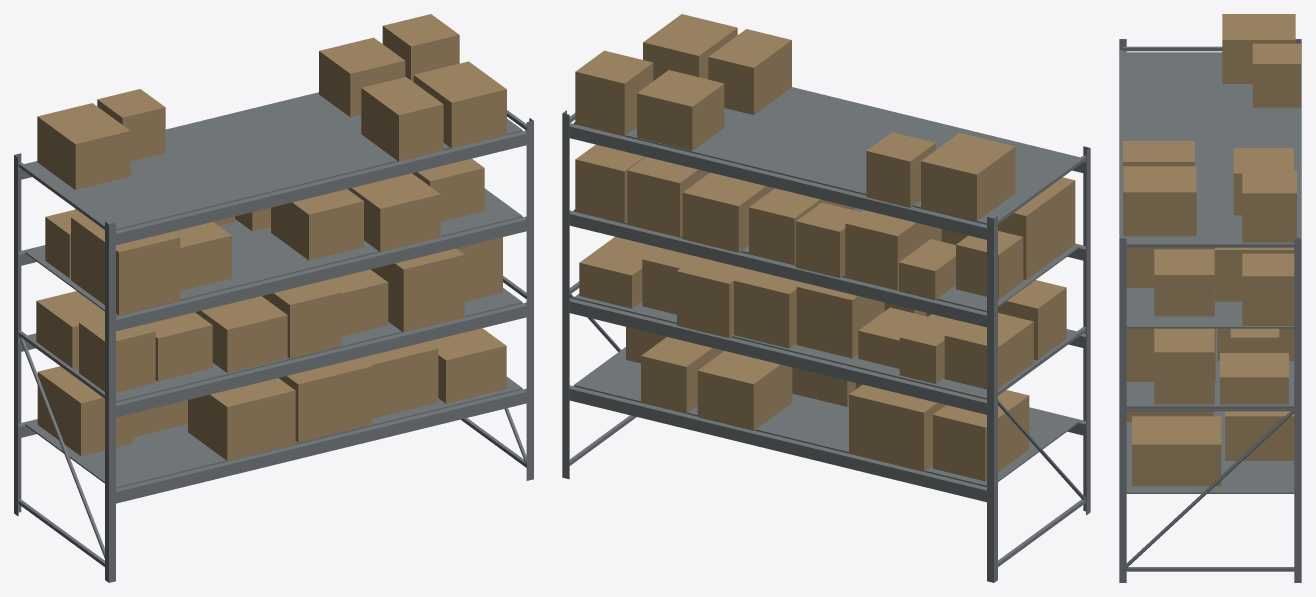
Rendered from warehouse-rack-boxes.glb.
3 renders of one model, left to right at view 1: azimuth 30°, elevation 25°; view 2: azimuth 150°, elevation 25°; view 3: azimuth 270°, elevation 25°, orthographic. The views are drawn at different scales.
Parts seen in each view (by area): view 1: warehouse_rack; view 2: warehouse_rack; view 3: warehouse_rack.
Boxes of the visible parts, bbox=[...] form: warehouse_rack: bbox=[14, 14, 533, 582]; warehouse_rack: bbox=[562, 14, 1090, 582]; warehouse_rack: bbox=[1119, 14, 1301, 582].
Size of the model in its own units: 3.1 by 2.79 by 1.2.
